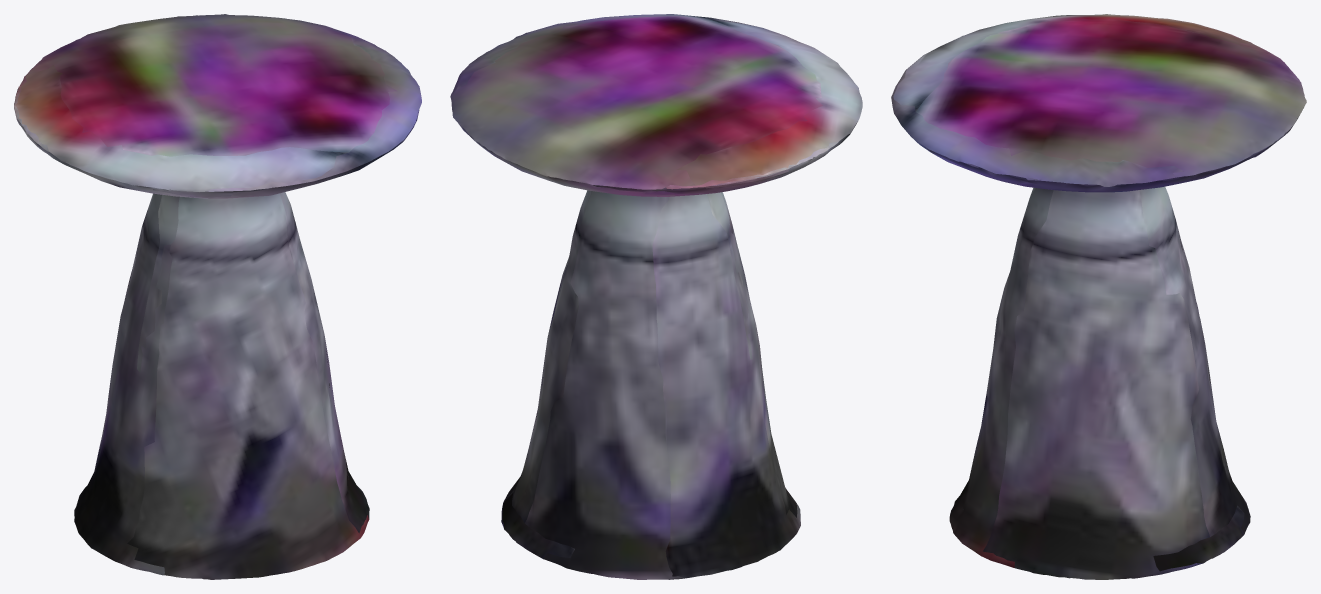
3 views of the same model, side by side, from view 1: azimuth 30°, elevation 25°; view 2: azimuth 150°, elevation 25°; view 3: azimuth 270°, elevation 25° (orthographic).
Visible parts, largest first — view 1: world; view 2: world; view 3: world.
Part boxes in pixels (x1,y1,x2,y2): world: (14,14,421,579); world: (450,14,862,579); world: (891,14,1306,579).
Bounding box in the file's own units: 0.2177 × 0.2564 × 0.2199.
Materials: 1 (1 with a texture image).
